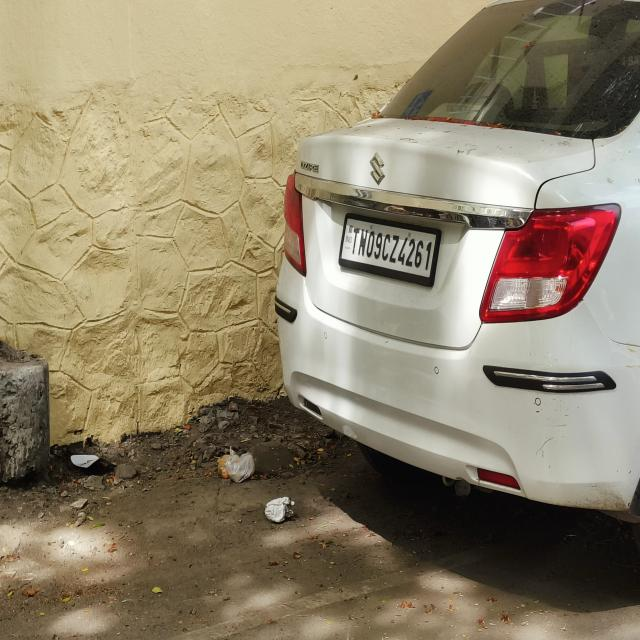scratch: (530, 391, 578, 463)
